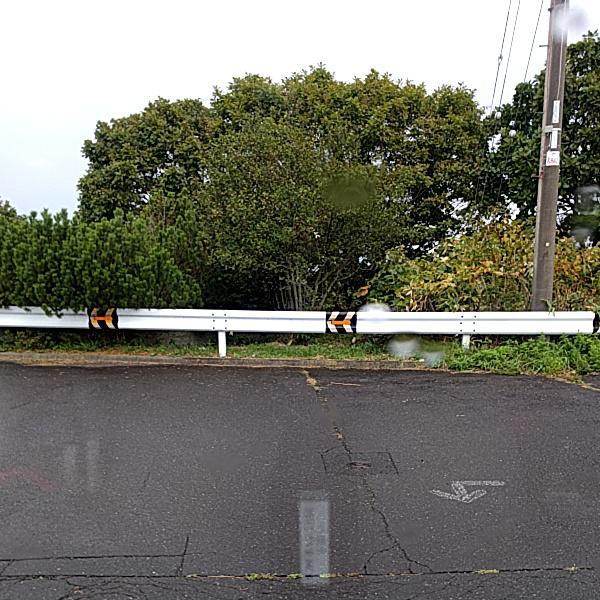D20: (349, 491, 435, 579), (4, 567, 227, 599)
